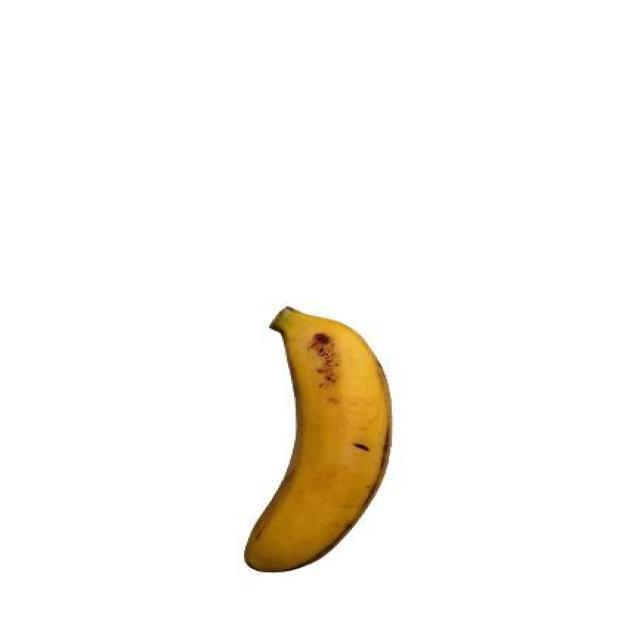Banana: (244, 304, 394, 576)
